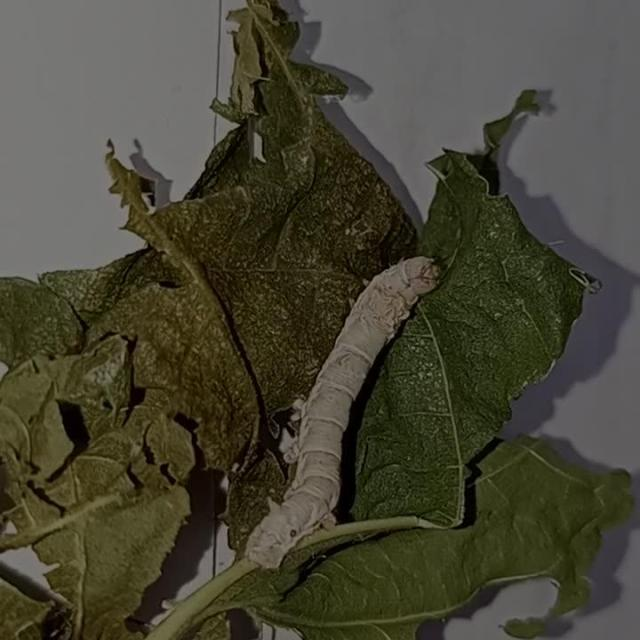Healthy: (217, 237, 456, 596)
